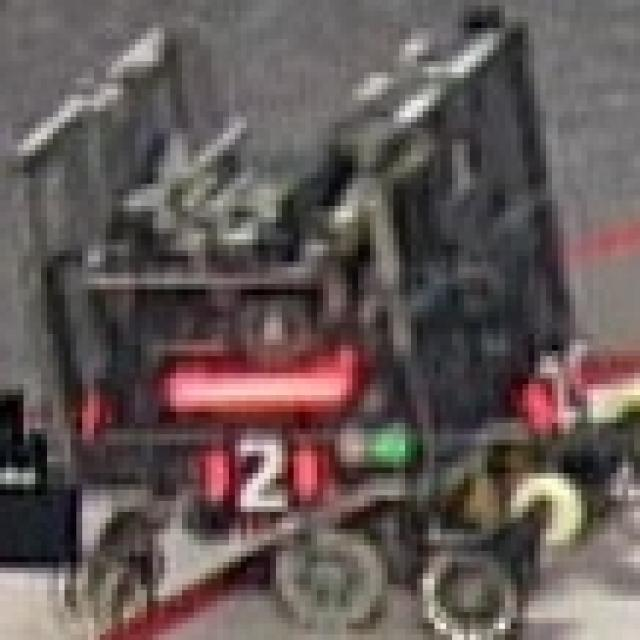R2: (200, 428, 323, 506), (523, 351, 587, 428)
